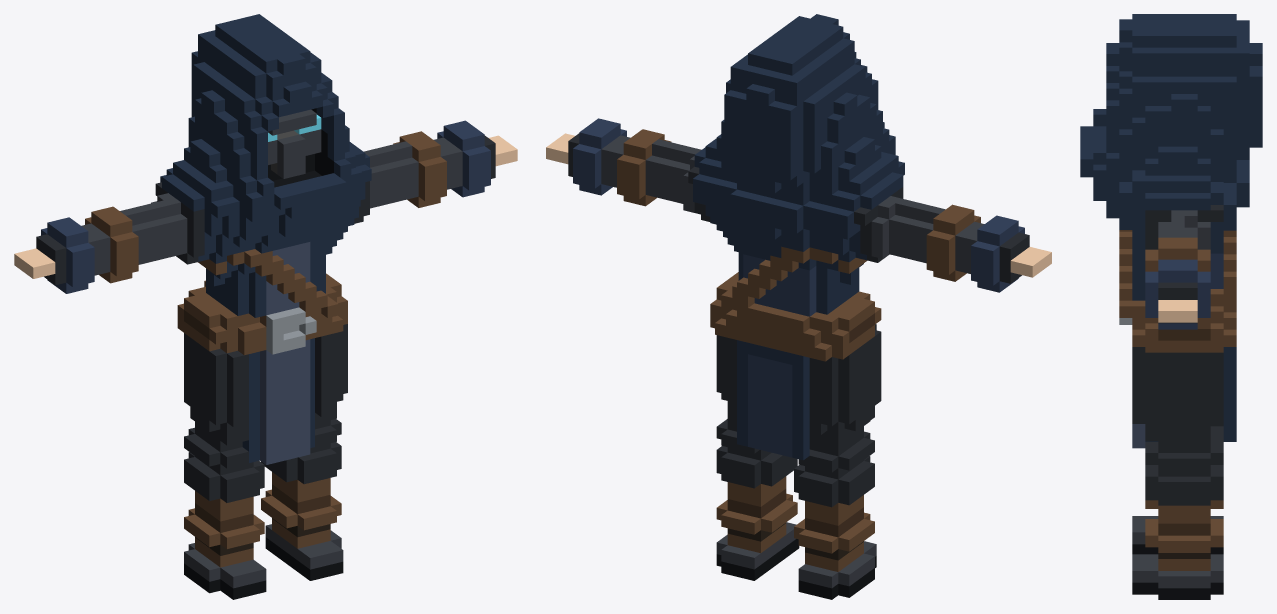
Rendered from AssassianTest2.obj.
The picture shows the model from 3 angles, left to right: view 1: azimuth 30°, elevation 25°; view 2: azimuth 150°, elevation 25°; view 3: azimuth 270°, elevation 25°; orthographic projection. The views are drawn at different scales.
Size of the model in its own units: 4.4 by 4.6 by 1.4.
Materials: 1 (1 with a texture image).
